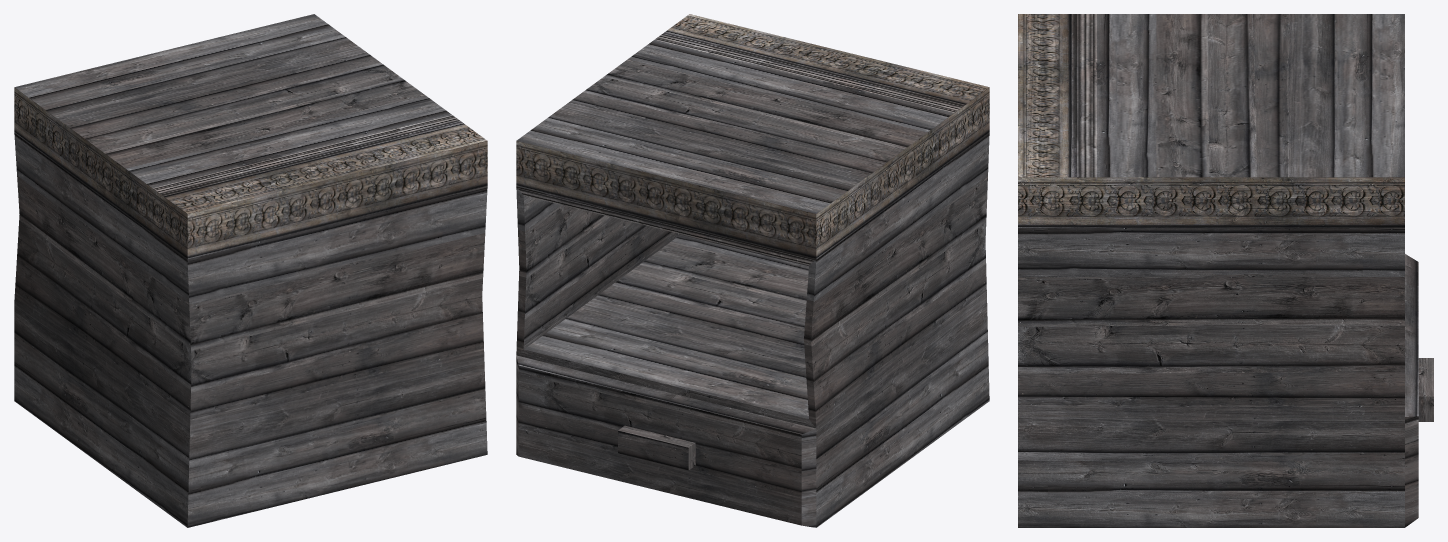
Rendered from tavern_smallbox.dae.
3 views of the same model, side by side, from view 1: azimuth 30°, elevation 25°; view 2: azimuth 150°, elevation 25°; view 3: azimuth 270°, elevation 25° (orthographic). The views are drawn at different scales.
Visible parts, largest first — view 1: Default_Layer; view 2: Default_Layer; view 3: Default_Layer.
Boxes of the visible parts, box(x1,y1,x2,y2) form: Default_Layer: box(14, 14, 487, 527); Default_Layer: box(516, 14, 989, 527); Default_Layer: box(1018, 14, 1433, 527).
Bounding box in the file's own units: 1.08 × 1.08 × 1.16.
